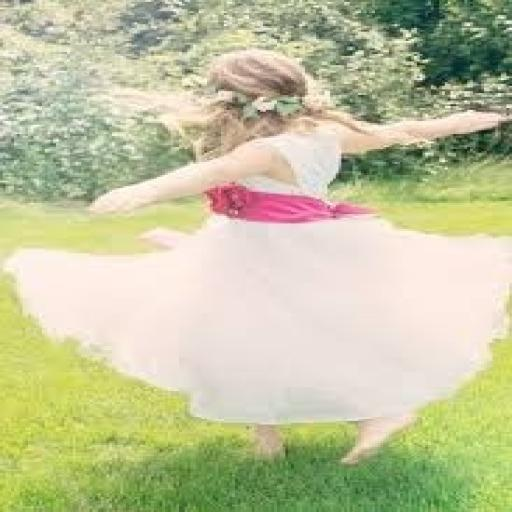dancing: (6, 46, 509, 468)
